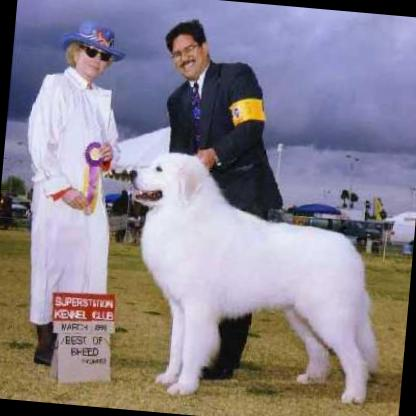Great_Pyrenees: (105, 144, 397, 416)
